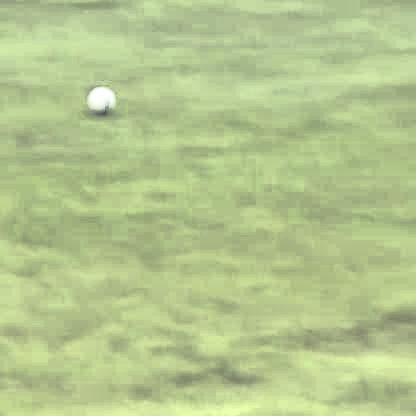golfball: (85, 83, 113, 113)
